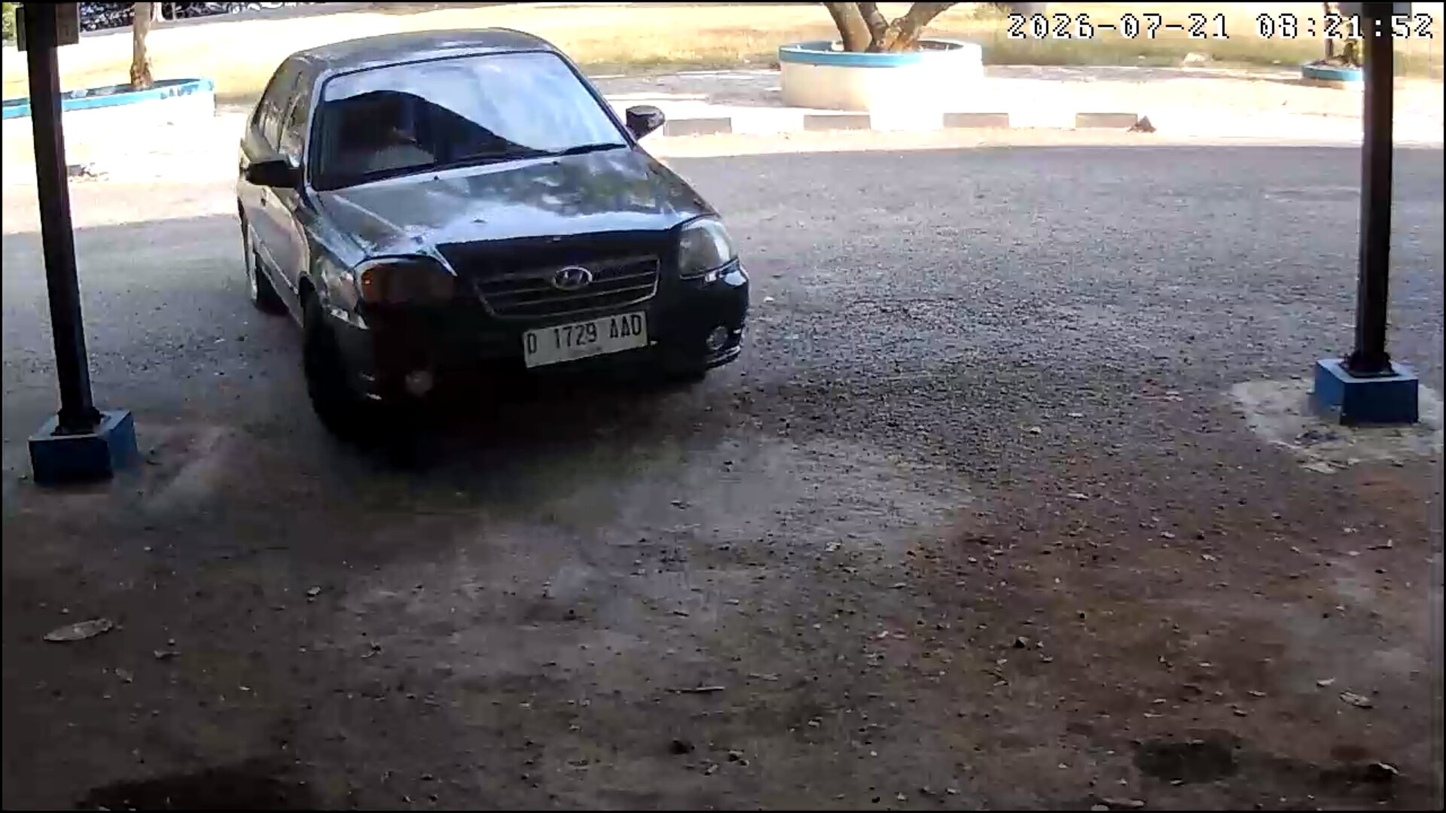plat nomor: (523, 310, 649, 371)
